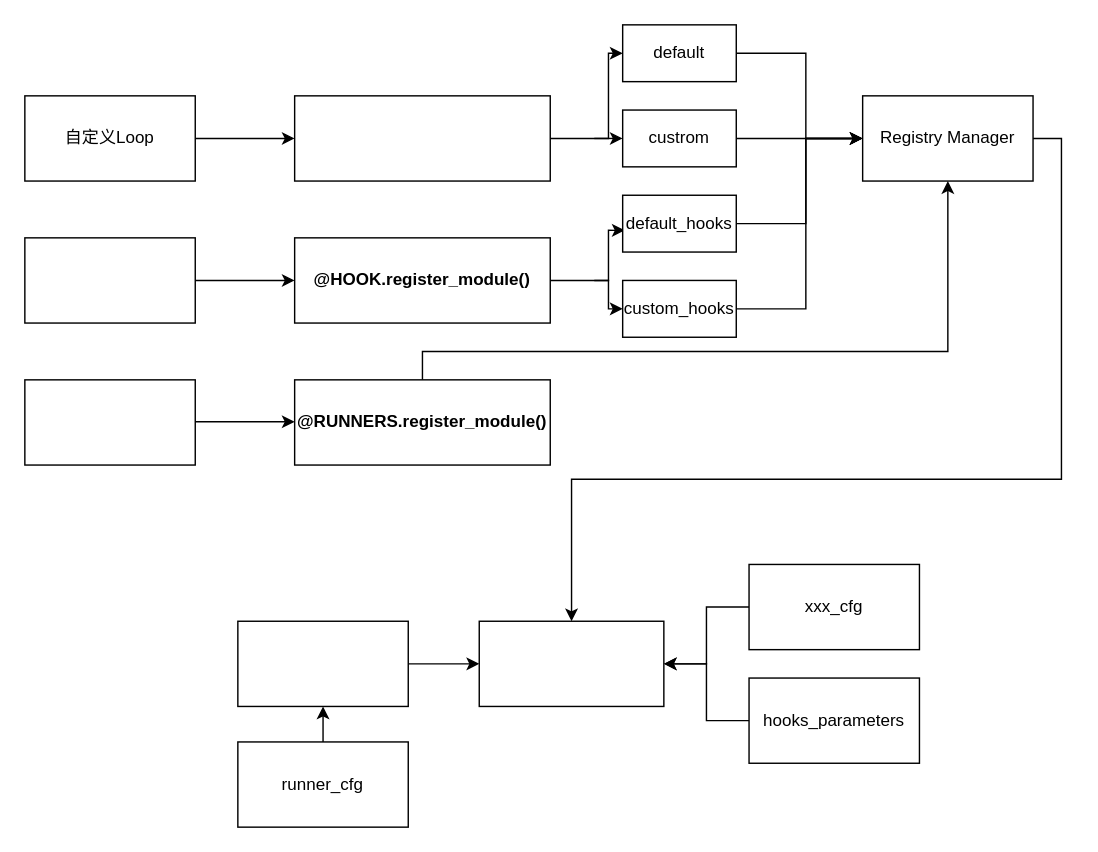
Some shapes in this 1098 by 852 pixel diagram are drawn without their labels. The centre of each missing label's shape, as x and y in pixels:
"@LOOPS.register_module()" goes at [421,137].
"build_task" goes at [322,663].
"Runner_instances" goes at [571,663].
"自定义Hook" goes at [109,279].
"自定义Runner" goes at [109,421].
